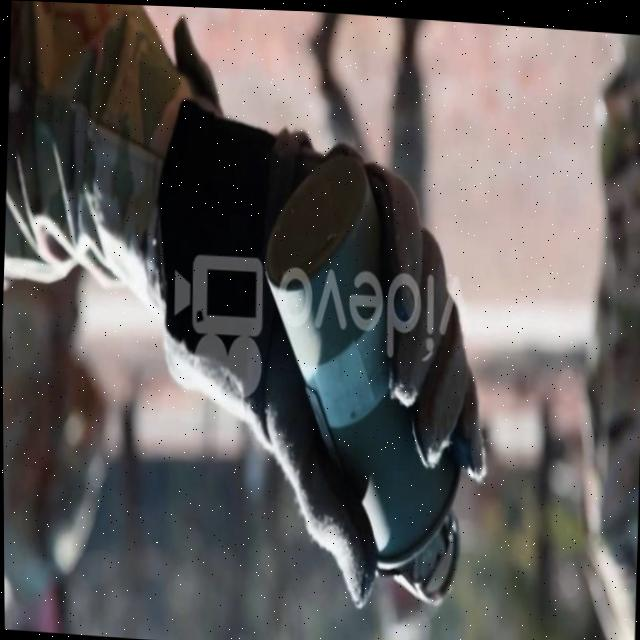grenade: (247, 134, 489, 615)
